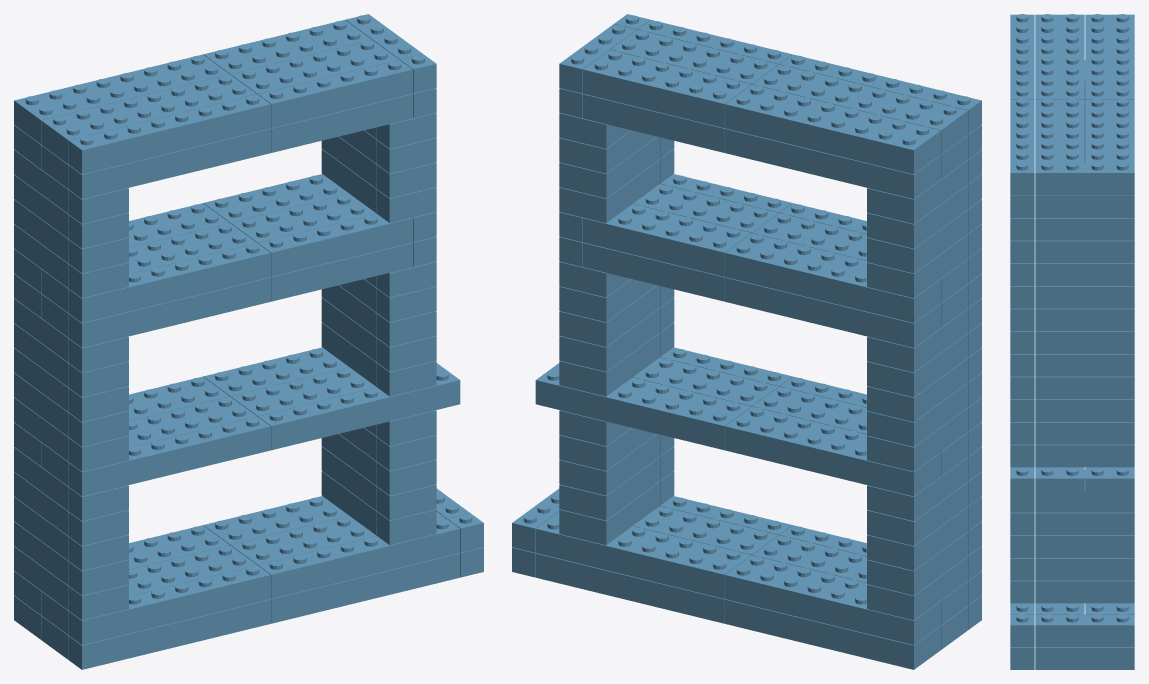
The model's file is 065_bookshelf_L5.glb.
3 renders of one model, left to right at view 1: azimuth 30°, elevation 25°; view 2: azimuth 150°, elevation 25°; view 3: azimuth 270°, elevation 25°, orthographic. The views are drawn at different scales.
Size of the model in its own units: 16.98 by 21.13 by 4.98.
